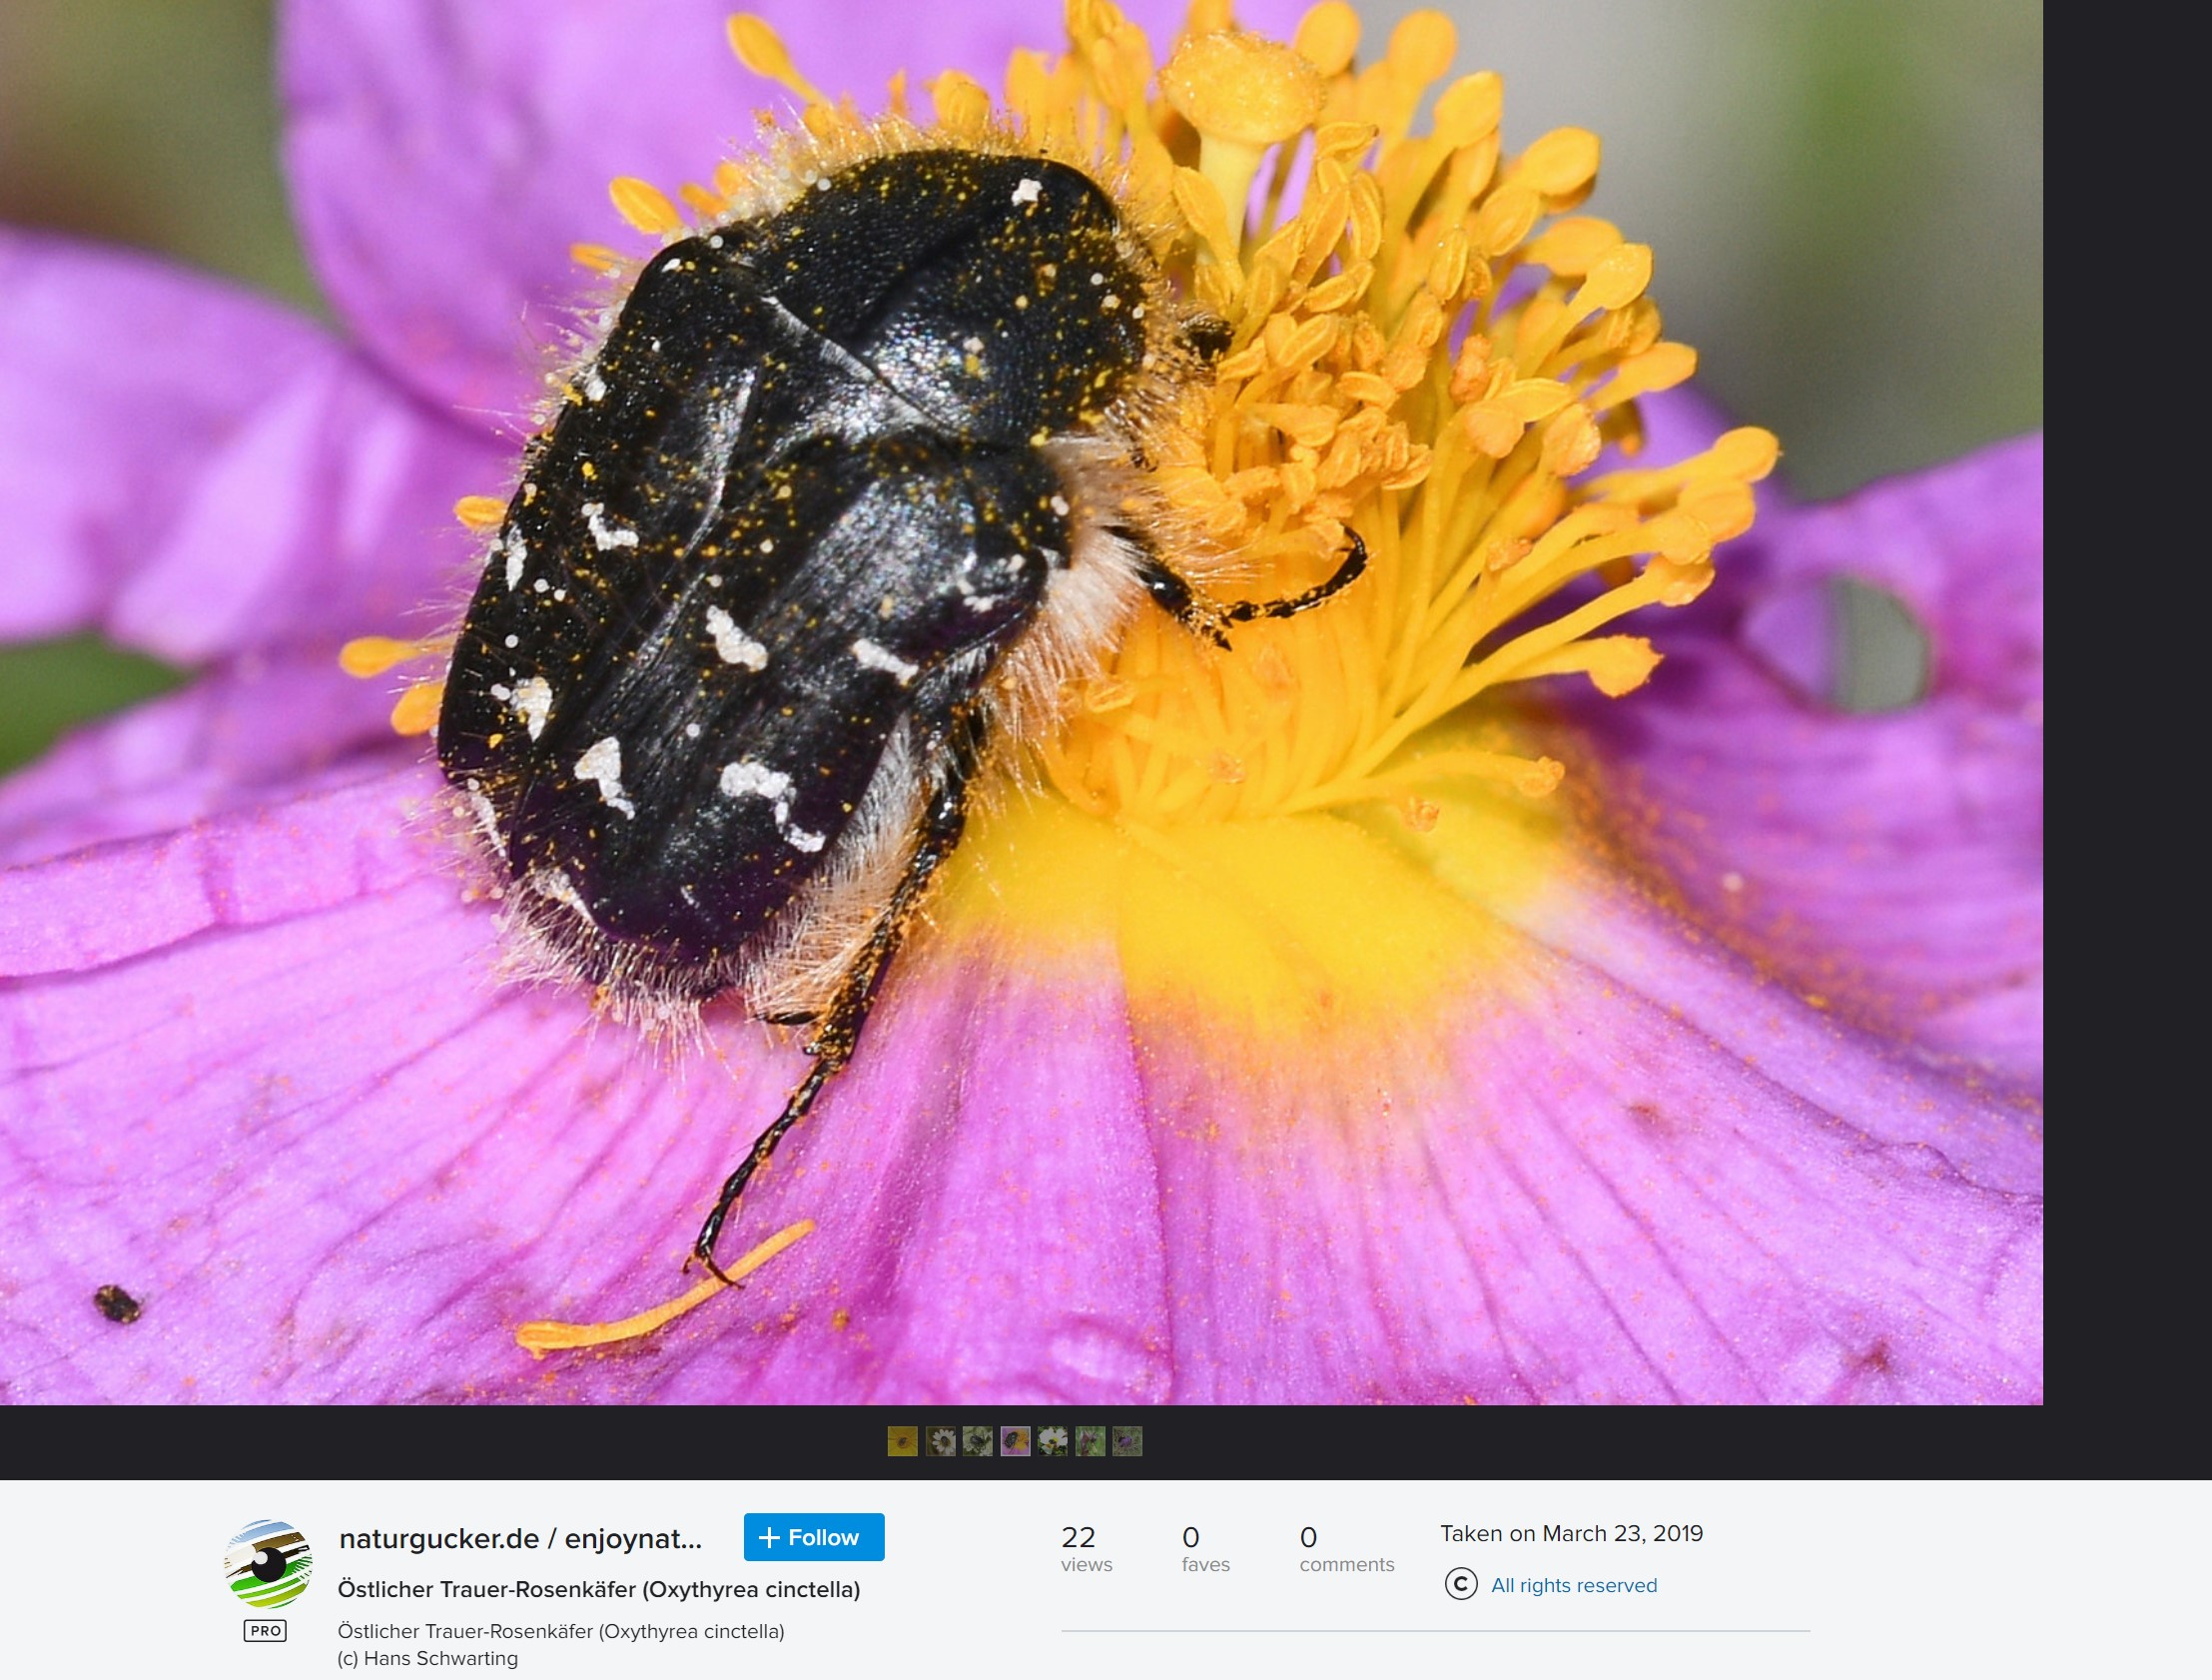Oxythyrea_cinctella: (430, 97, 1376, 1295)
